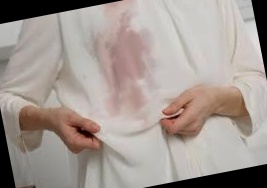wine: (88, 19, 159, 128), (106, 0, 139, 23)
